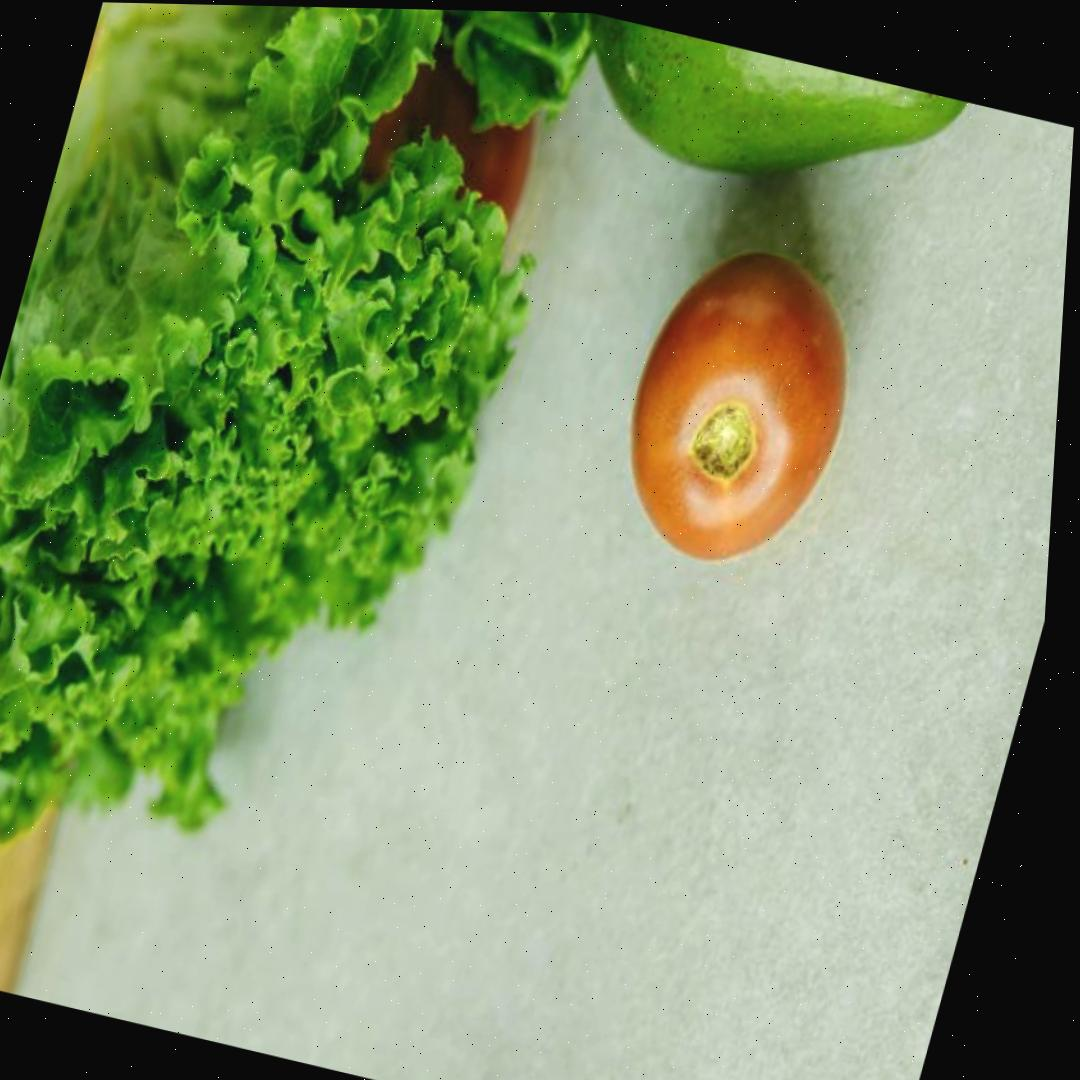matang: (596, 230, 882, 587)
